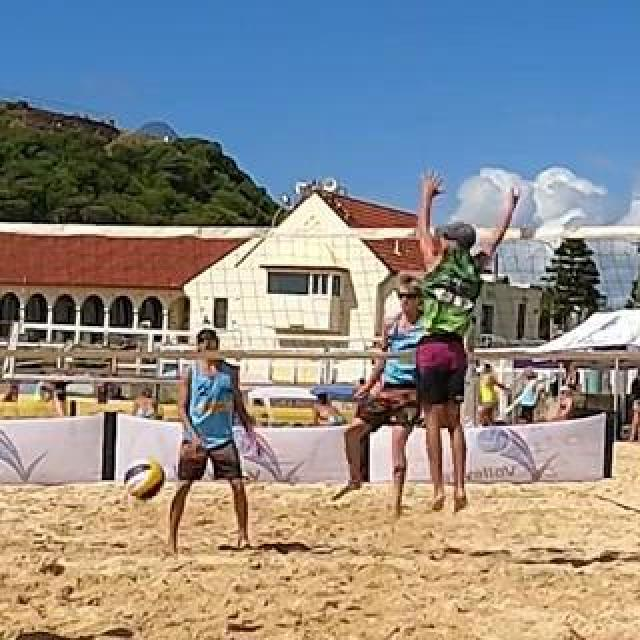volleyball: (127, 460, 165, 498)
